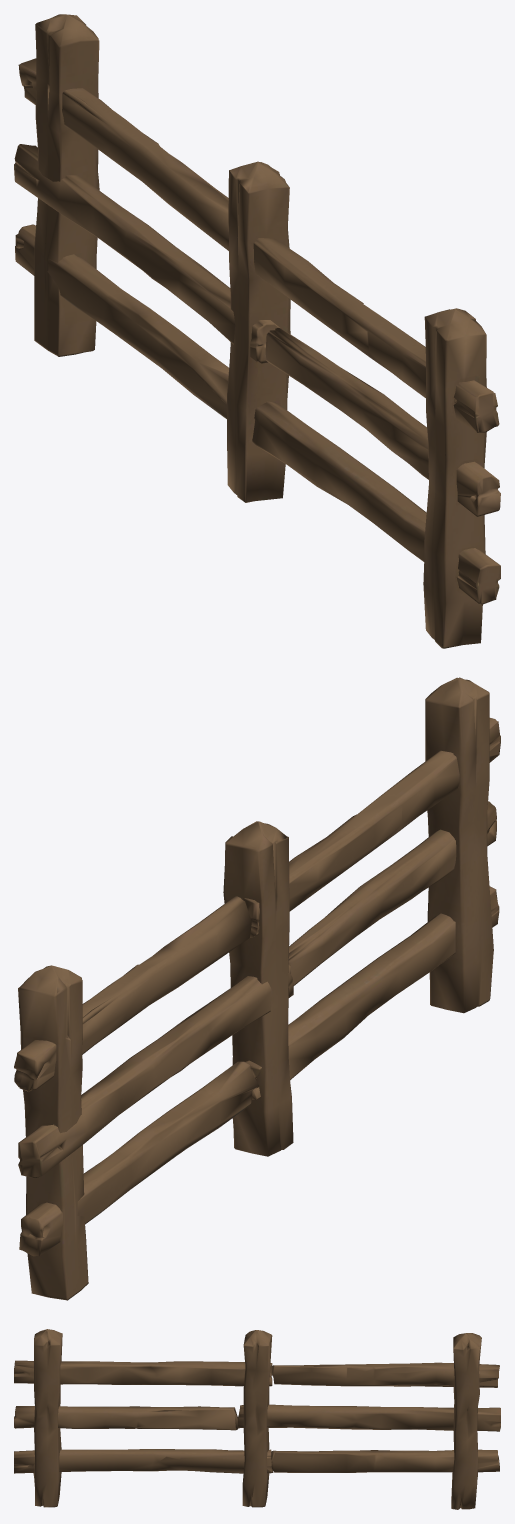
File: selected.fbx
3 renders of one model, top to bottom at view 1: azimuth 30°, elevation 25°; view 2: azimuth 150°, elevation 25°; view 3: azimuth 270°, elevation 25°, orthographic. The views are drawn at different scales.
Visible parts, largest first — view 1: tripo_node_dba0d17a-0e39-4e9b-8051-9cb5150f55f3; view 2: tripo_node_dba0d17a-0e39-4e9b-8051-9cb5150f55f3; view 3: tripo_node_dba0d17a-0e39-4e9b-8051-9cb5150f55f3.
Part boxes in pixels (<box>): tripo_node_dba0d17a-0e39-4e9b-8051-9cb5150f55f3: <box>14,14,500,648</box>; tripo_node_dba0d17a-0e39-4e9b-8051-9cb5150f55f3: <box>14,677,500,1300</box>; tripo_node_dba0d17a-0e39-4e9b-8051-9cb5150f55f3: <box>14,1329,500,1509</box>.
Size of the model in its own units: 7.62 by 39.26 by 99.8.
1 material, 1 textured.
